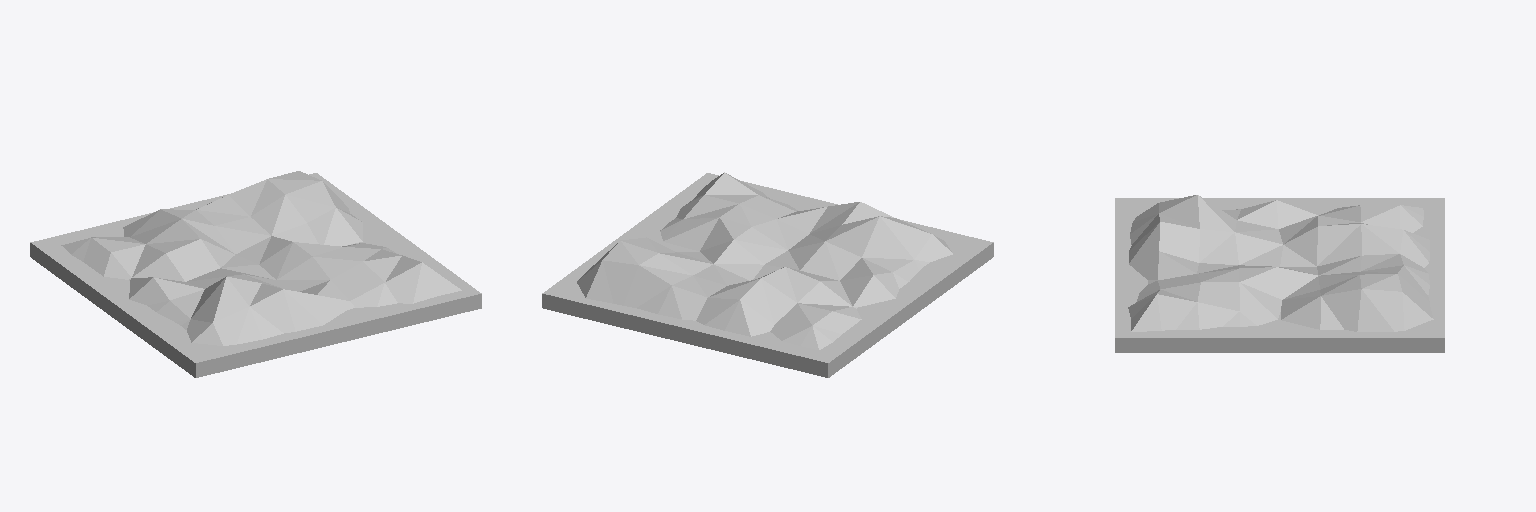
The model's file is hills.obj.
3 renders of one model, left to right at view 1: azimuth 30°, elevation 25°; view 2: azimuth 150°, elevation 25°; view 3: azimuth 270°, elevation 25°, orthographic.
Parts seen in each view (by area): view 1: hills; view 2: hills; view 3: hills.
Part boxes in pixels (bbox=[...]): hills: bbox=[30, 171, 481, 377]; hills: bbox=[542, 172, 993, 377]; hills: bbox=[1115, 195, 1444, 352].
Size of the model in its own units: 40 by 7.21 by 40.02.